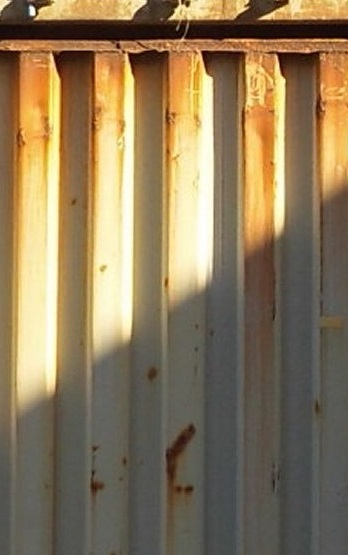container_no_door: (1, 36, 347, 554)
